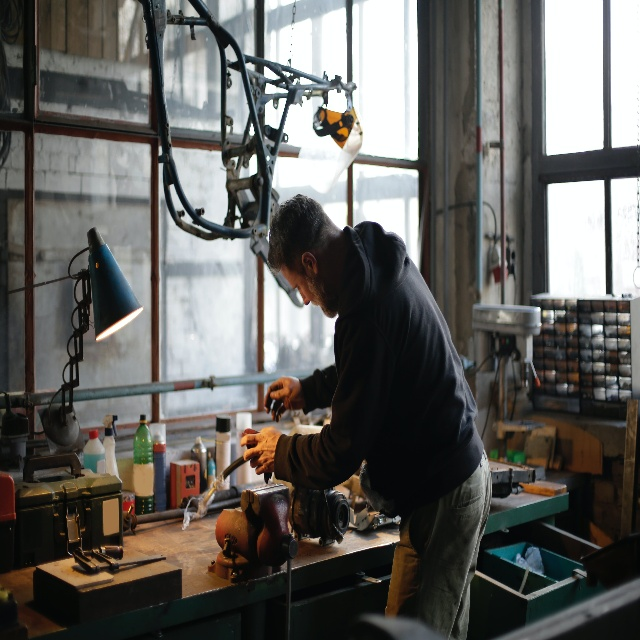Sin_guantes: (240, 427, 280, 476), (262, 377, 302, 422)
